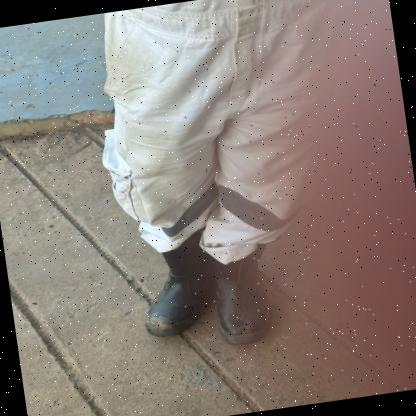bota: (132, 232, 225, 336), (207, 242, 282, 346)
